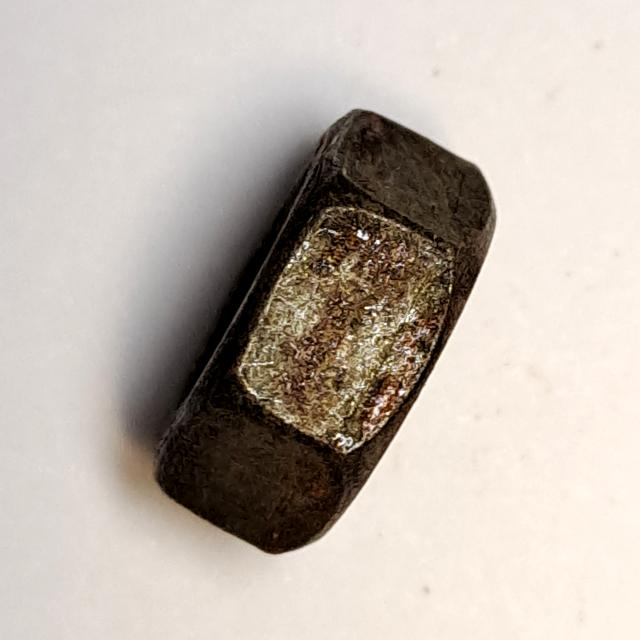Side_Rust: (134, 98, 522, 571)
